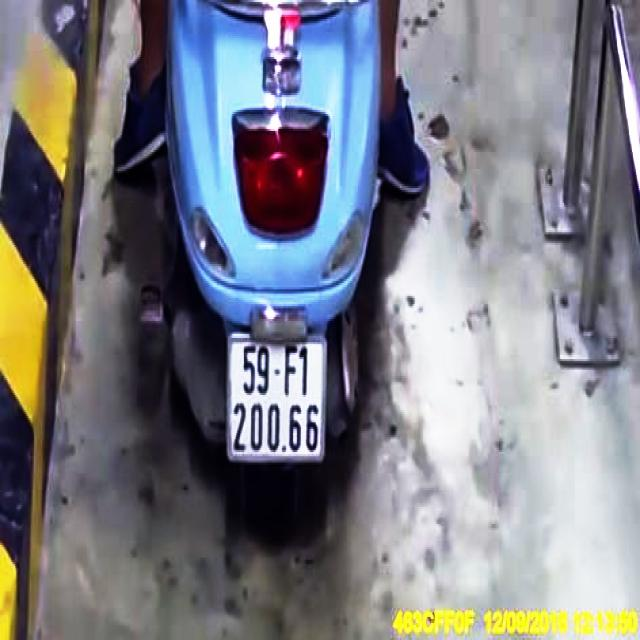license_plate: (231, 337, 327, 460)
